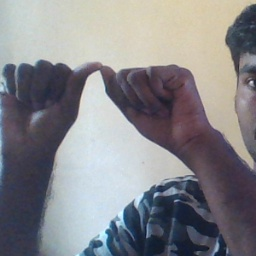A: (11, 47, 177, 151)
